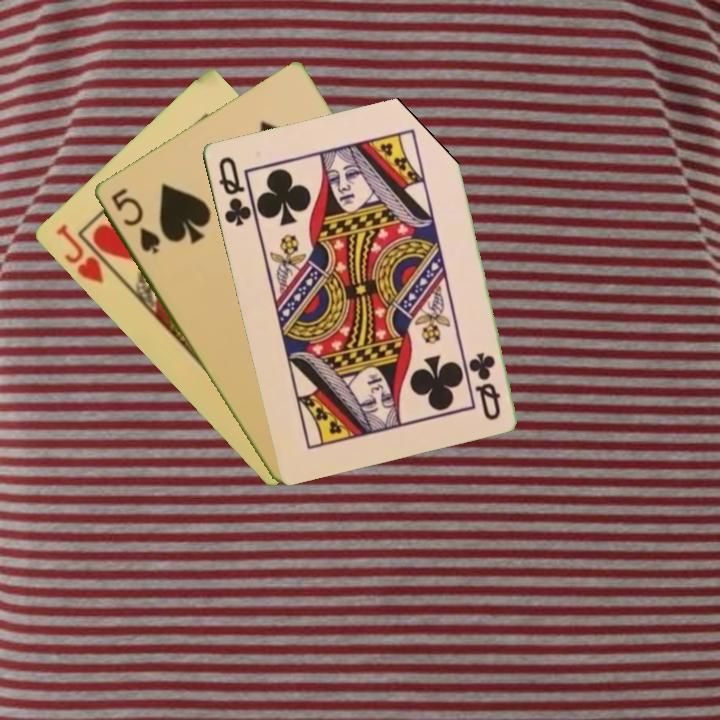5s: (106, 184, 163, 257)
Jh: (51, 220, 120, 287)
Qc: (214, 152, 254, 229), (466, 348, 503, 423)
